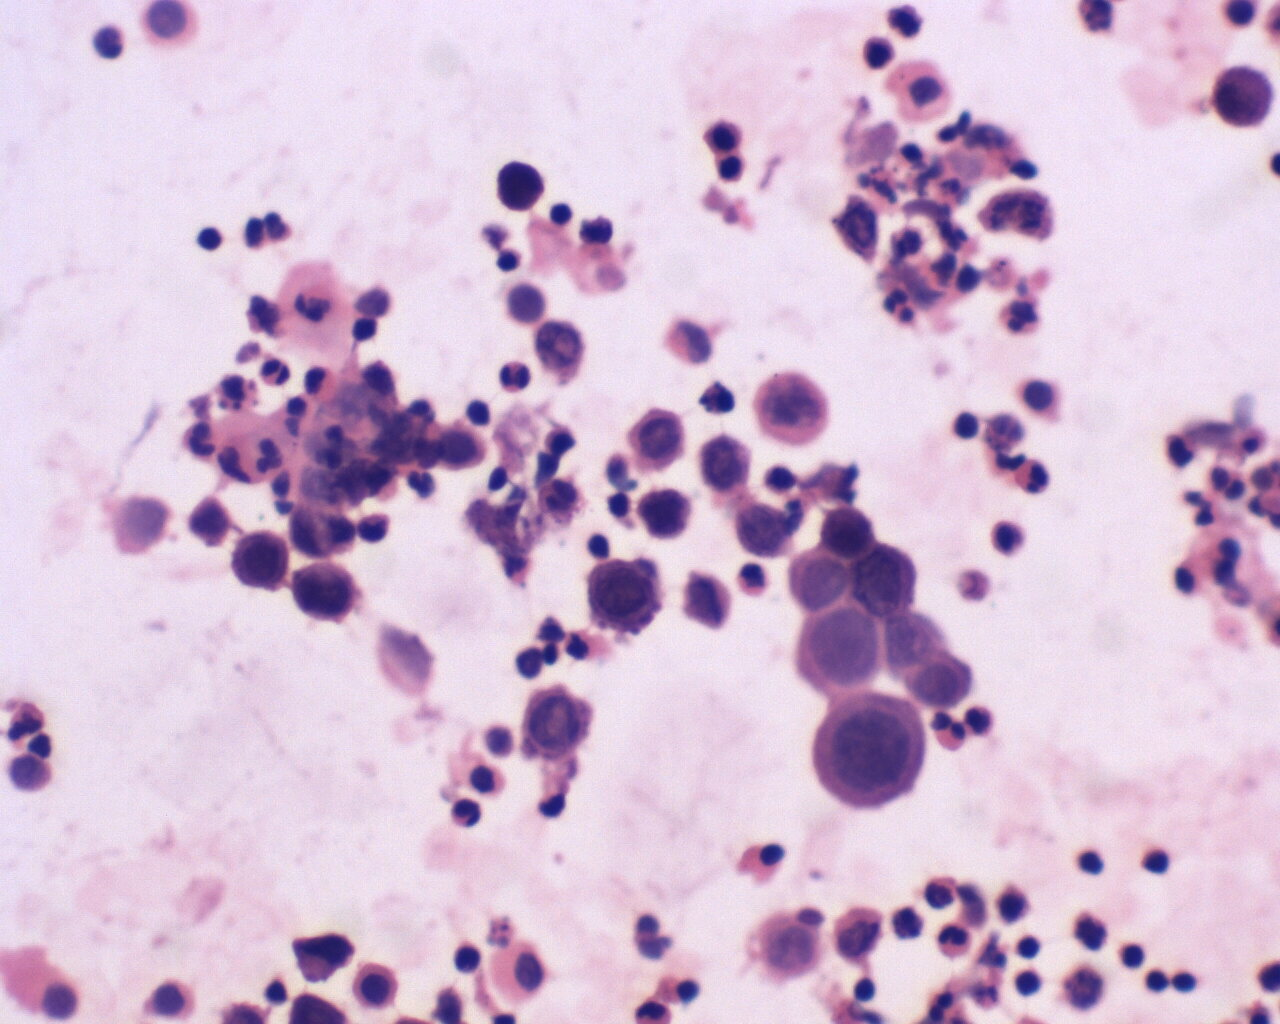ab: (809, 690, 928, 814), (795, 607, 886, 693), (843, 540, 925, 625), (584, 558, 664, 637), (519, 686, 598, 764), (288, 558, 364, 627), (1213, 61, 1280, 132), (906, 647, 977, 709), (627, 403, 688, 473), (232, 529, 293, 594), (734, 503, 799, 558), (639, 485, 694, 545), (494, 158, 548, 213)
lymph: (191, 222, 230, 257), (1114, 935, 1151, 971), (1136, 848, 1177, 881), (848, 973, 880, 1001)
meso: (487, 935, 553, 1007), (883, 59, 955, 120), (344, 958, 406, 1014)
neutro: (925, 706, 968, 753), (1016, 455, 1053, 496), (937, 922, 973, 958), (449, 797, 484, 833), (257, 355, 294, 389), (498, 358, 531, 396)
